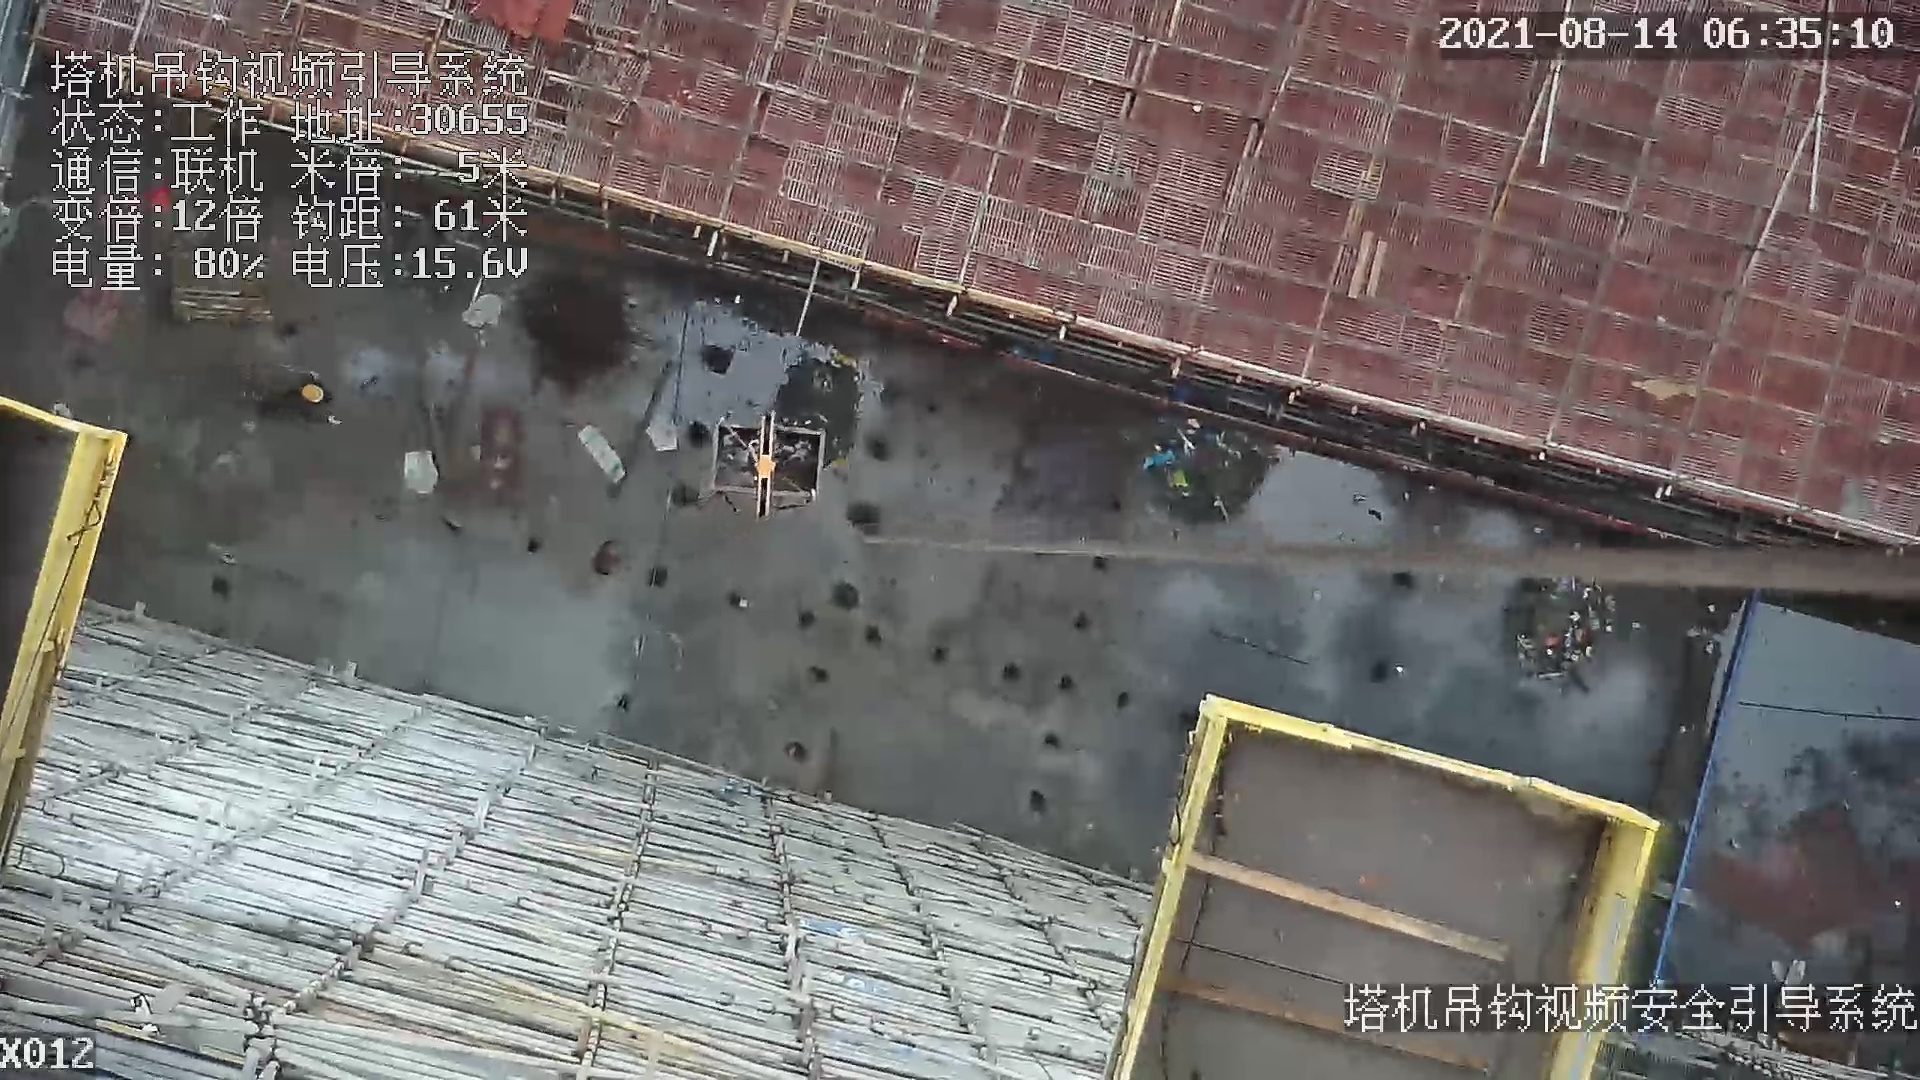helmet: (301, 382, 324, 404)
hook: (749, 410, 777, 523)
hopper: (706, 415, 844, 526)
person: (270, 367, 353, 433)
